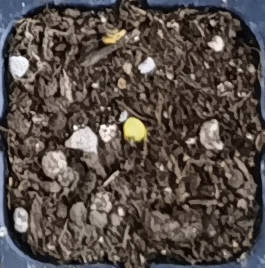chilli seed: (121, 116, 146, 144)
